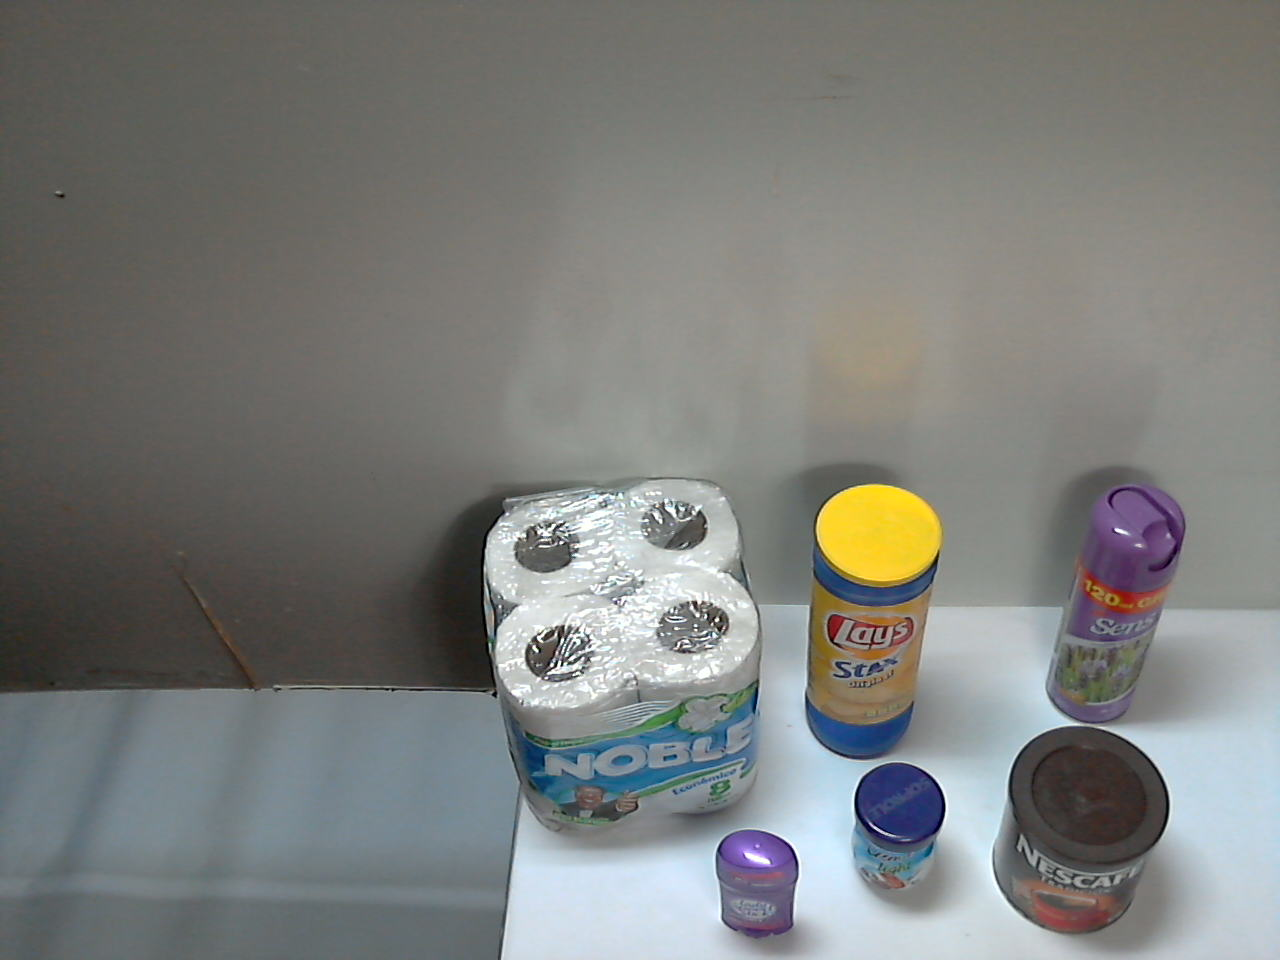aceite: (702, 403, 841, 697)
aerosol: (854, 439, 973, 701)
balsamo: (964, 457, 1096, 689)
ketchup: (645, 651, 763, 817)
lata: (1026, 639, 1154, 811)
yogurt: (544, 419, 688, 698)
